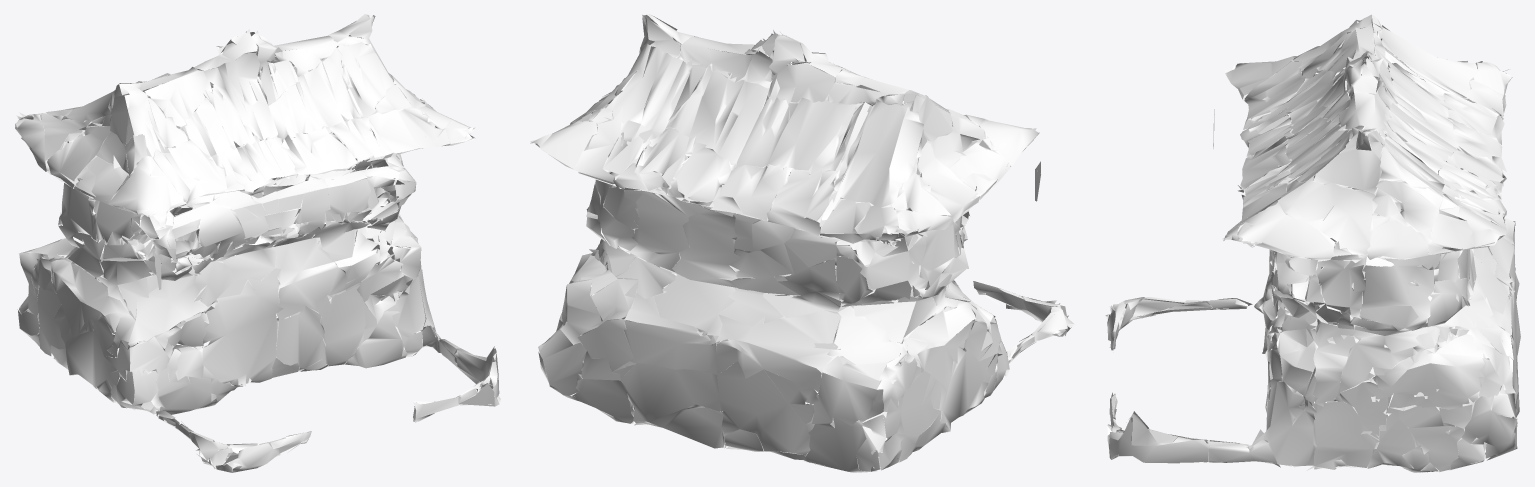
The model's file is house_timber_b_lo.glb.
The picture shows the model from 3 angles, left to right: view 1: azimuth 30°, elevation 25°; view 2: azimuth 150°, elevation 25°; view 3: azimuth 270°, elevation 25°; orthographic projection. The views are drawn at different scales.
Visible parts, largest first — view 1: output_unwrapped; view 2: output_unwrapped; view 3: output_unwrapped.
Part boxes in pixels (x1,y1,x2,y2): output_unwrapped: (14, 14, 500, 472); output_unwrapped: (530, 14, 1076, 472); output_unwrapped: (1105, 14, 1520, 472).
Bounding box in the file's own units: 7.89 × 7.05 × 7.64.
1 material, 1 textured.
